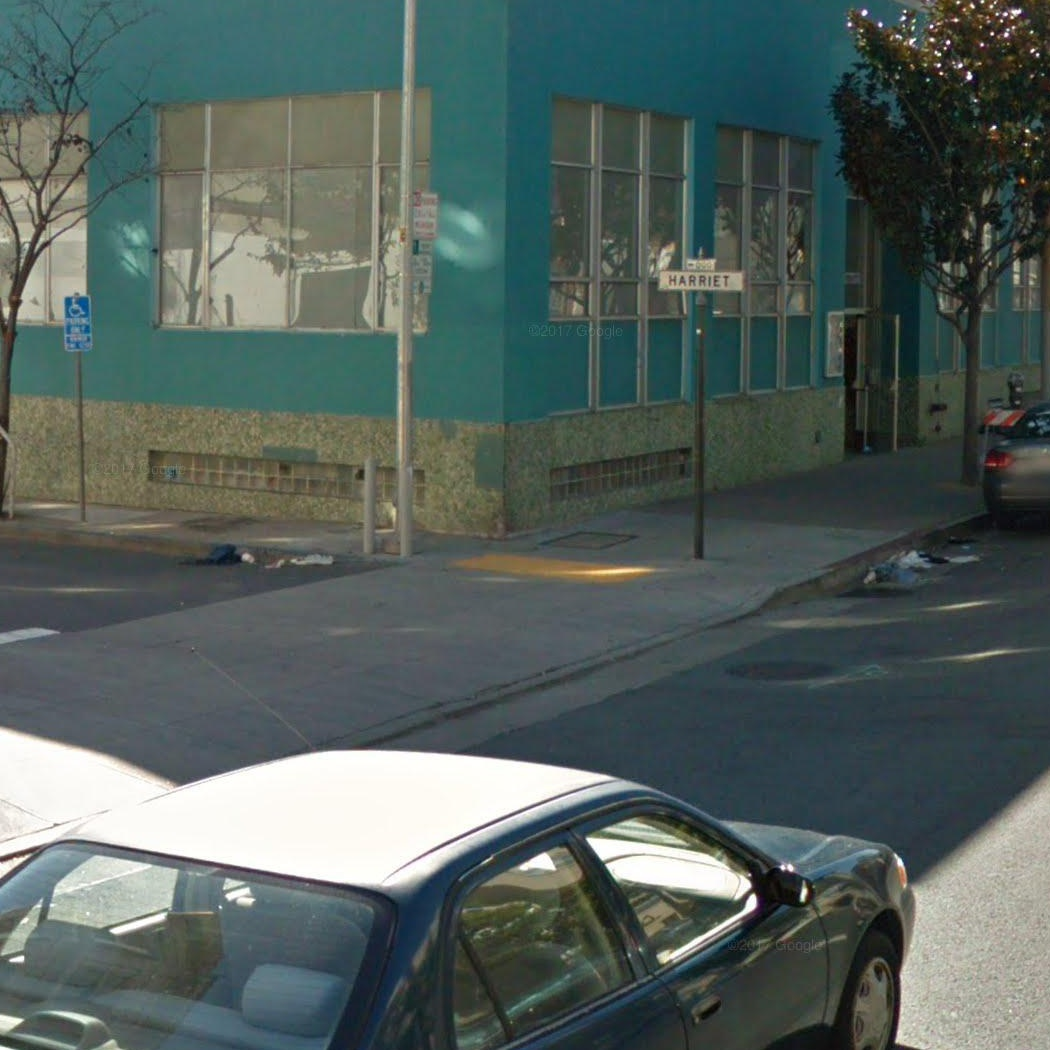No Parking: (411, 191, 440, 240)
